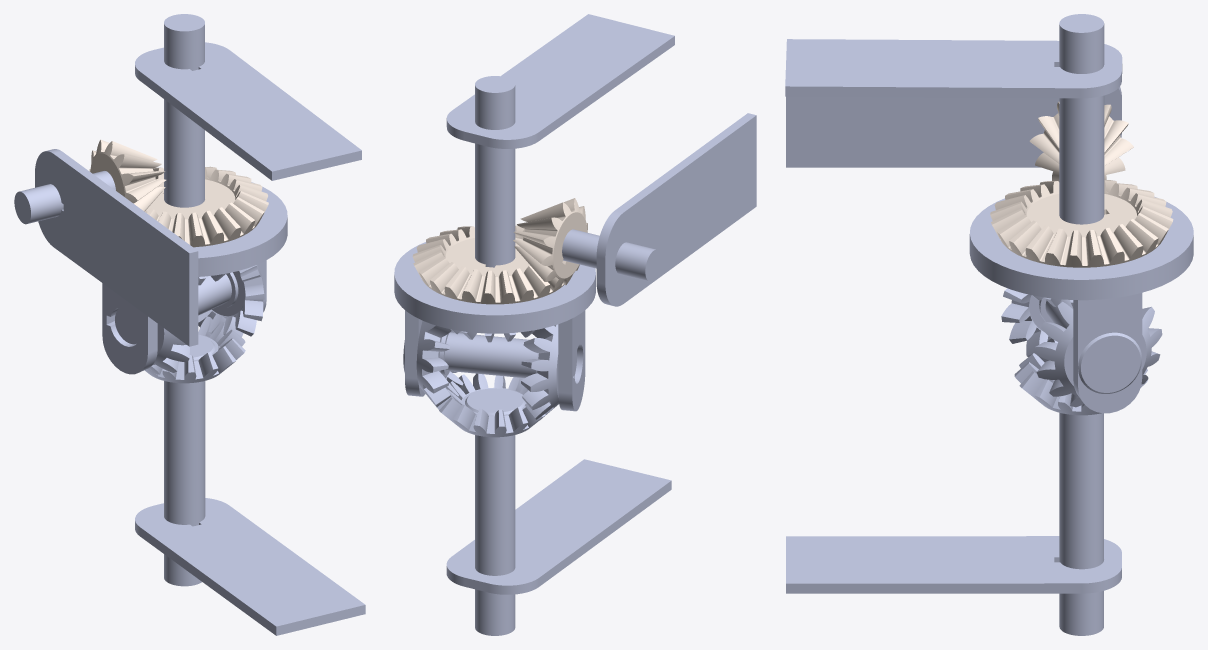
The model's file is Assembly.glb.
3 renders of one model, left to right at view 1: azimuth 30°, elevation 25°; view 2: azimuth 150°, elevation 25°; view 3: azimuth 270°, elevation 25°, orthographic. The views are drawn at different scales.
Visible parts, largest first — view 1: Support1-1, Support2-2, Support2-1, Sider Gear Holder-1, Output Shaft 2-1, Output Shaft-1, new bevel gear-1, new pinion gear-1, Side gear base-3, Side gear base-2, Spider Support-1, Input Shaft-1 (+1 smaller); view 2: Support1-1, Support2-1, Support2-2, Sider Gear Holder-1, Output Shaft 2-1, Output Shaft-1, new bevel gear-1, new pinion gear-1, Spider Support-1, Side gear base-3, Side gear base-4, Input Shaft-1 (+2 smaller); view 3: Support1-1, Support2-1, Support2-2, Sider Gear Holder-1, new bevel gear-1, Output Shaft 2-1, Output Shaft-1, Side gear base-2, Gear Cap-3, new pinion gear-1, Side gear base-4, Side gear base-3.
Part boxes in pixels (x1,y1,x2,y2): Support1-1: [35, 149, 198, 346]; Support2-2: [135, 498, 365, 635]; Support2-1: [135, 42, 361, 180]; Sider Gear Holder-1: [102, 182, 287, 374]; Output Shaft 2-1: [164, 381, 205, 586]; Output Shaft-1: [164, 14, 204, 207]; new bevel gear-1: [145, 166, 268, 247]; new pinion gear-1: [89, 139, 166, 211]; Side gear base-3: [144, 316, 245, 383]; Side gear base-2: [198, 264, 264, 337]; Spider Support-1: [115, 272, 238, 344]; Input Shaft-1: [14, 171, 115, 224]; Support1-1: [596, 113, 756, 306]; Support2-1: [446, 14, 674, 148]; Support2-2: [446, 459, 671, 594]; Sider Gear Holder-1: [394, 242, 595, 411]; Output Shaft 2-1: [475, 435, 515, 635]; Output Shaft-1: [475, 76, 515, 267]; new bevel gear-1: [412, 225, 564, 304]; new pinion gear-1: [513, 198, 587, 289]; Spider Support-1: [439, 331, 576, 378]; Side gear base-3: [439, 373, 545, 437]; Side gear base-4: [521, 324, 558, 419]; Input Shaft-1: [562, 229, 661, 281]; Support1-1: [786, 87, 1121, 167]; Support2-1: [785, 39, 1122, 98]; Support2-2: [786, 536, 1121, 593]; Sider Gear Holder-1: [969, 196, 1193, 413]; new bevel gear-1: [990, 180, 1173, 267]; Output Shaft 2-1: [1059, 412, 1103, 635]; Output Shaft-1: [1059, 14, 1104, 224]; Side gear base-2: [1034, 301, 1162, 407]; Gear Cap-3: [1078, 332, 1142, 393]; new pinion gear-1: [1029, 101, 1133, 181]; Side gear base-4: [1001, 288, 1057, 356]; Side gear base-3: [1014, 353, 1147, 415].
Bounding box in the file's own units: 0.1785 × 0.3772 × 0.2316.
